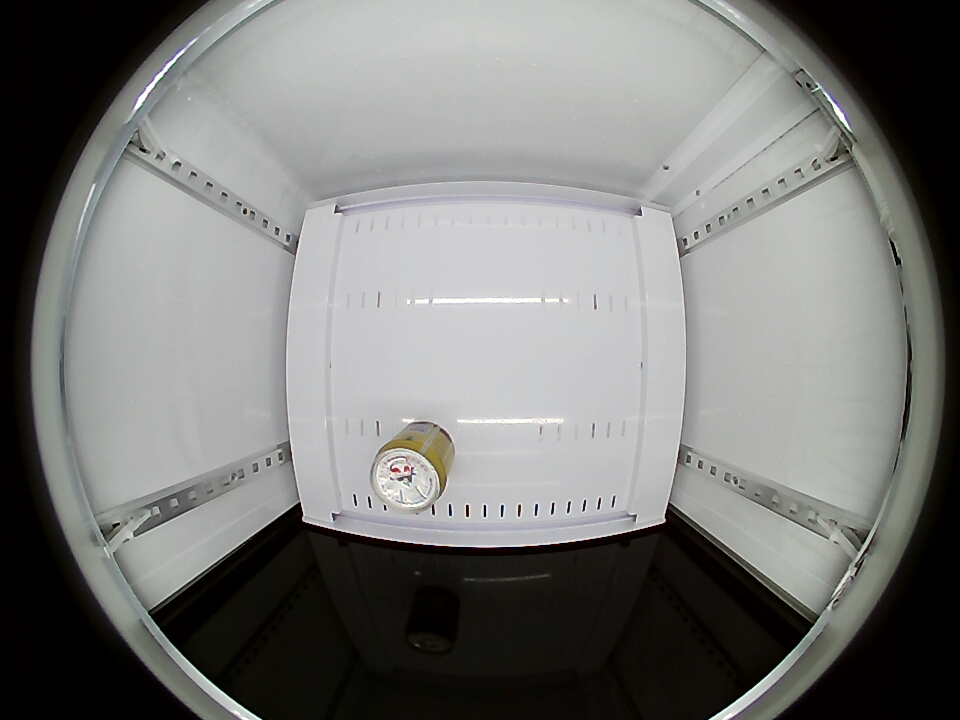hongniu2: (370, 431, 453, 513)
